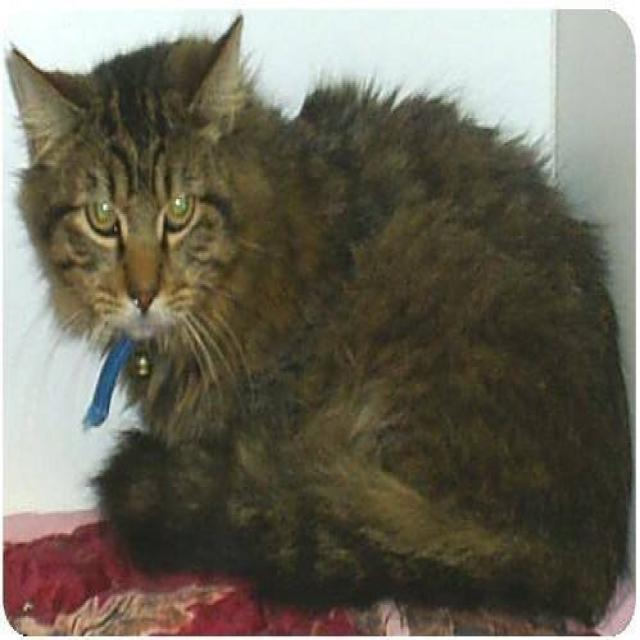cat: (4, 13, 632, 631)
